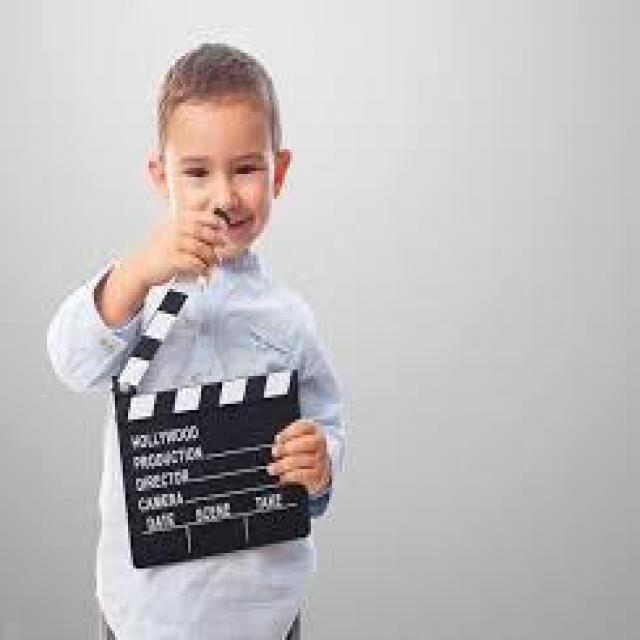person: (29, 18, 415, 628)
